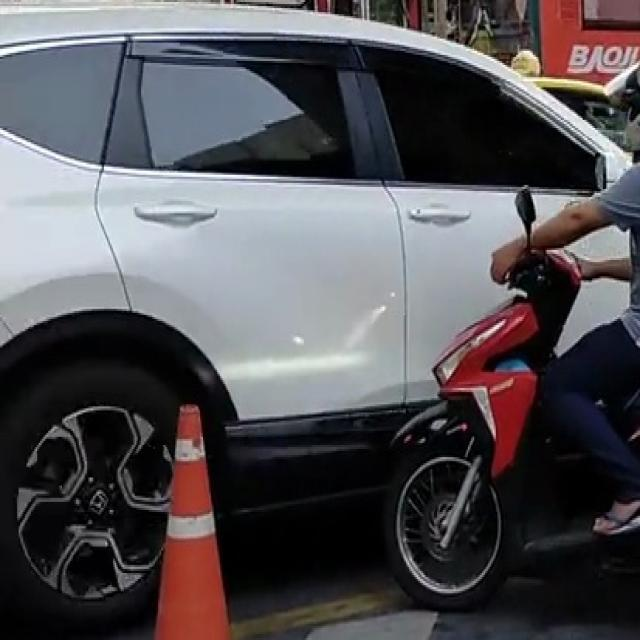door: (95, 38, 406, 424), (386, 179, 598, 402)
helmet: (603, 51, 638, 152), (510, 49, 539, 75)
tyre: (0, 309, 237, 632)
